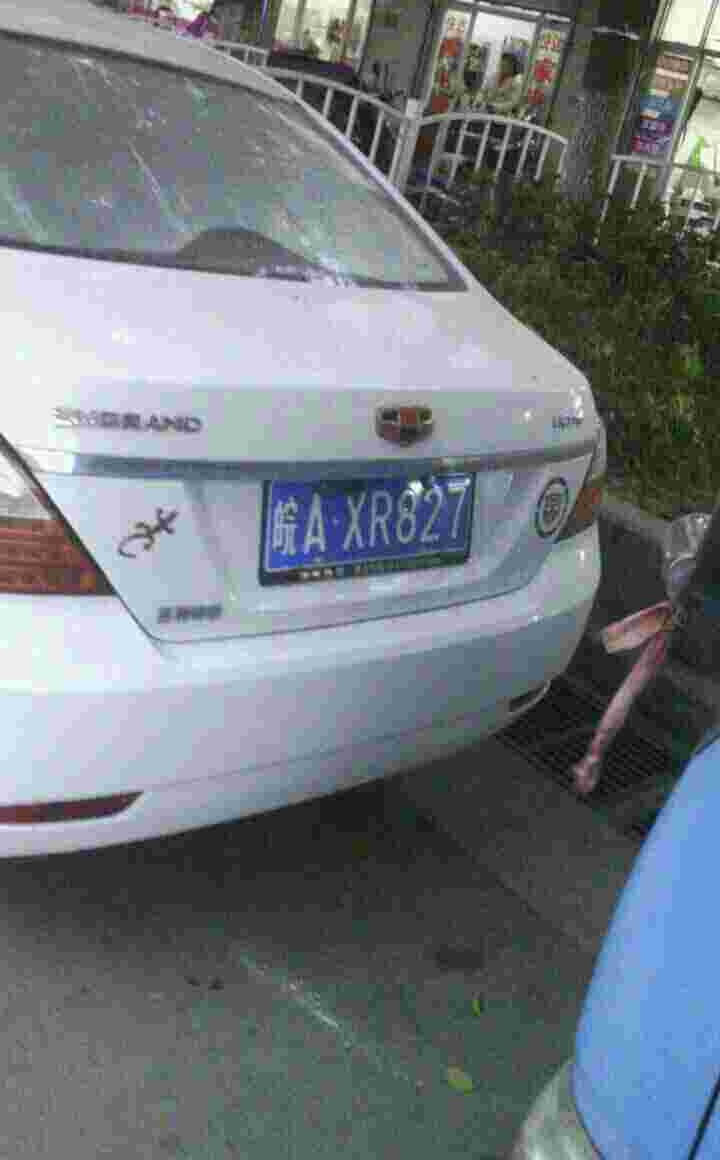plate: (272, 465, 482, 572)
